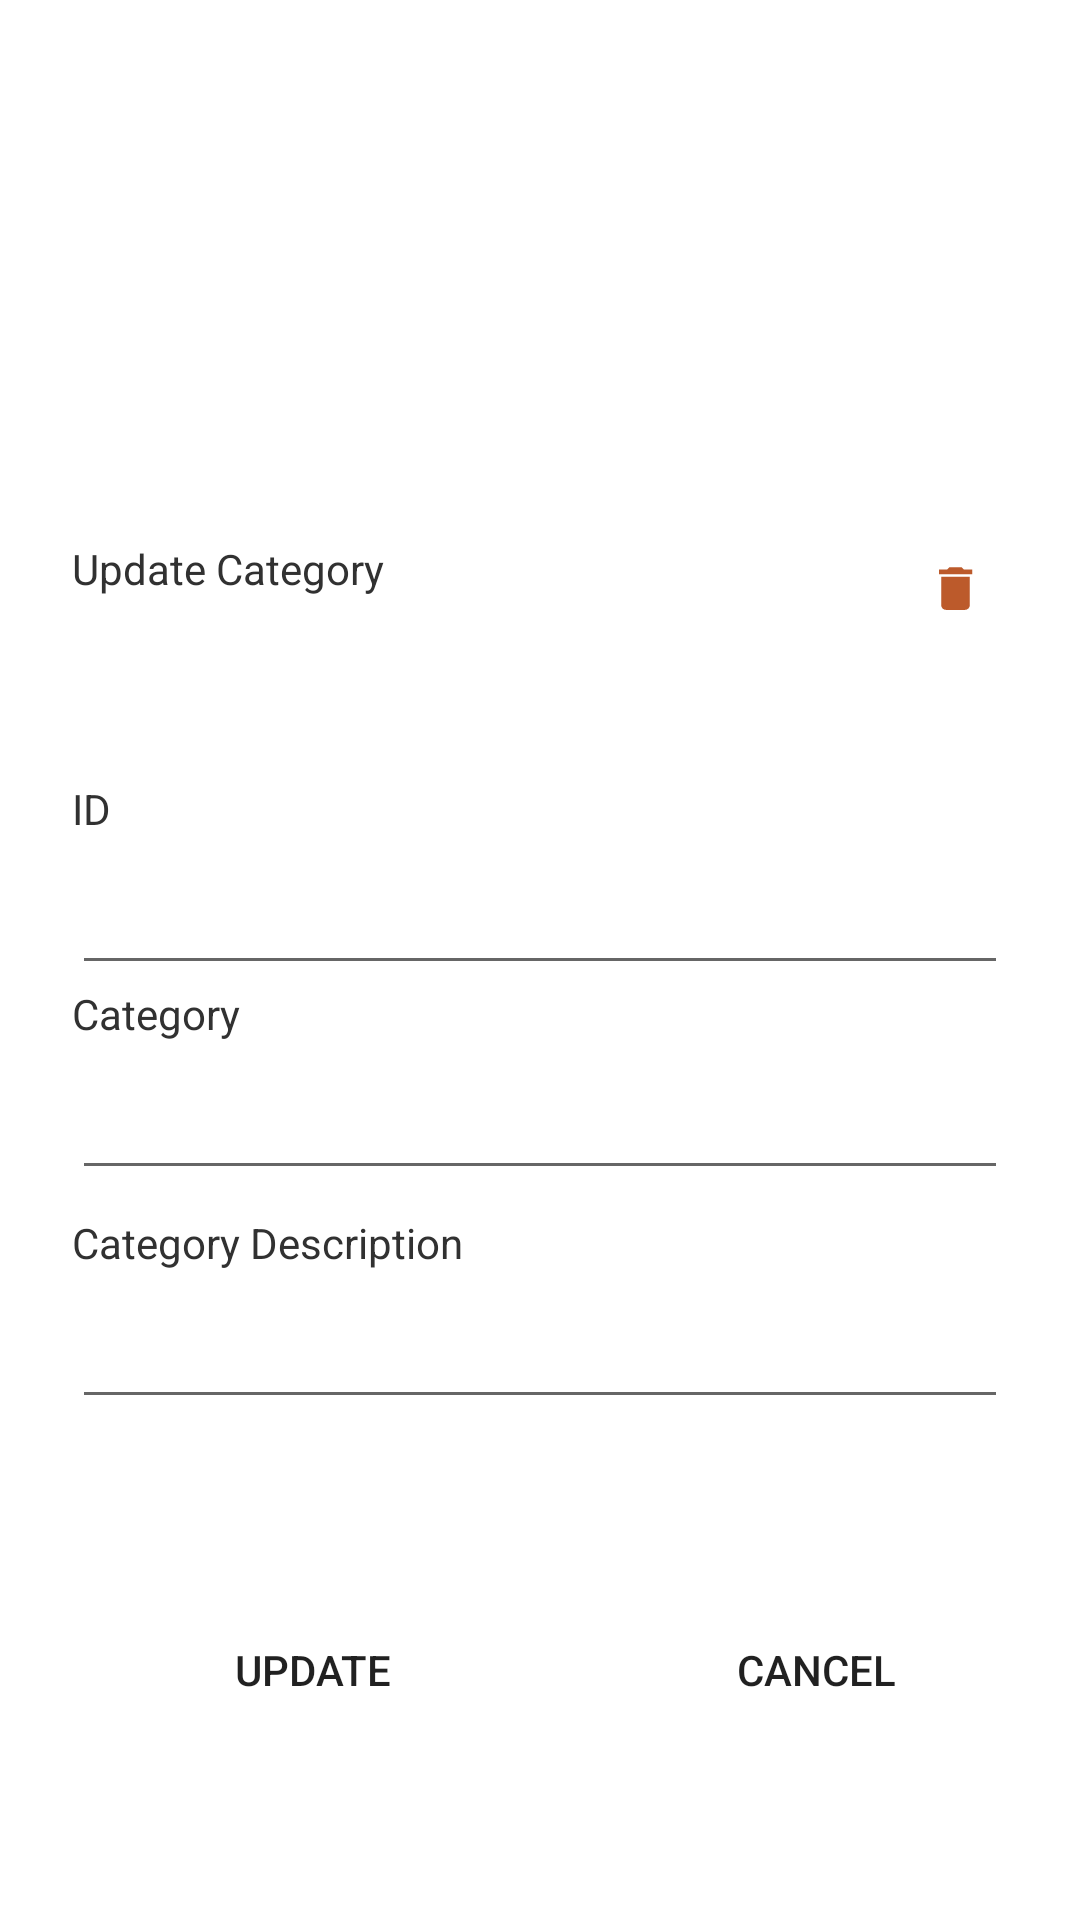

Icons on this 1080×1920 Android screen, each with the point to tap as point (x, y):
delete: point (956, 588)
